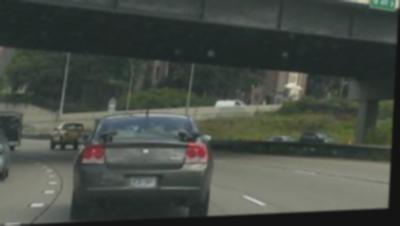License_Plate: (129, 171, 162, 189)
